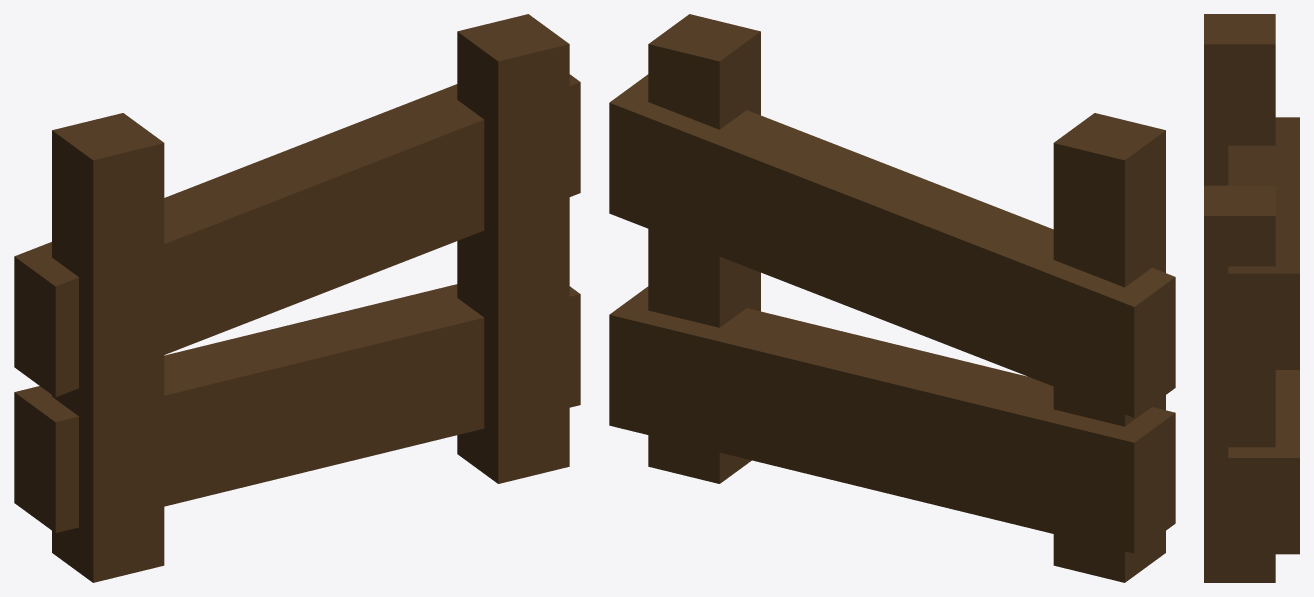
File: fence.fbx
3 renders of one model, left to right at view 1: azimuth 30°, elevation 25°; view 2: azimuth 150°, elevation 25°; view 3: azimuth 270°, elevation 25°, orthographic. The views are drawn at different scales.
Parts seen in each view (by area): view 1: Cube.002; view 2: Cube.002; view 3: Cube.002.
Part boxes in pixels (x1,y1,x2,y2): Cube.002: [14, 14, 580, 582]; Cube.002: [609, 14, 1175, 582]; Cube.002: [1204, 14, 1299, 582].
Size of the model in its own units: 648 by 498 by 118.
